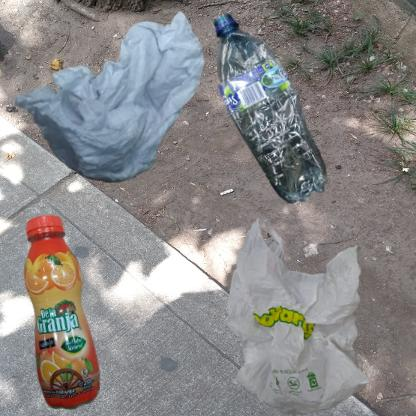bolsa: (213, 213, 395, 416)
botella: (213, 10, 330, 209), (10, 213, 119, 416)
papel: (10, 10, 209, 187)
